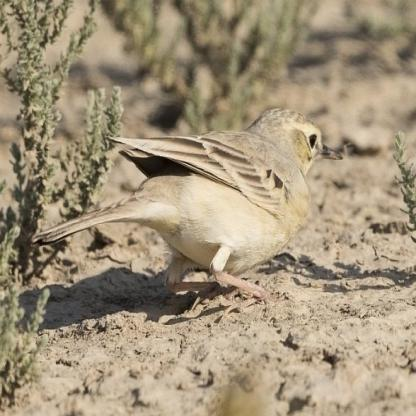Burung: (34, 106, 346, 310)
